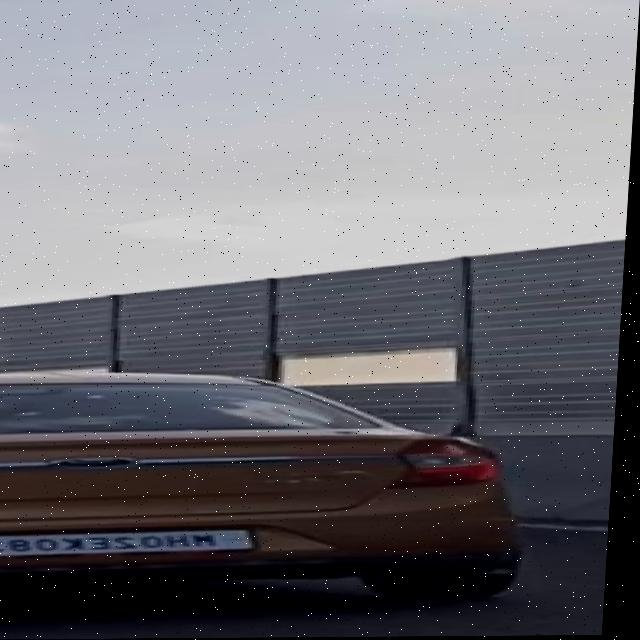plate: (0, 526, 266, 560)
